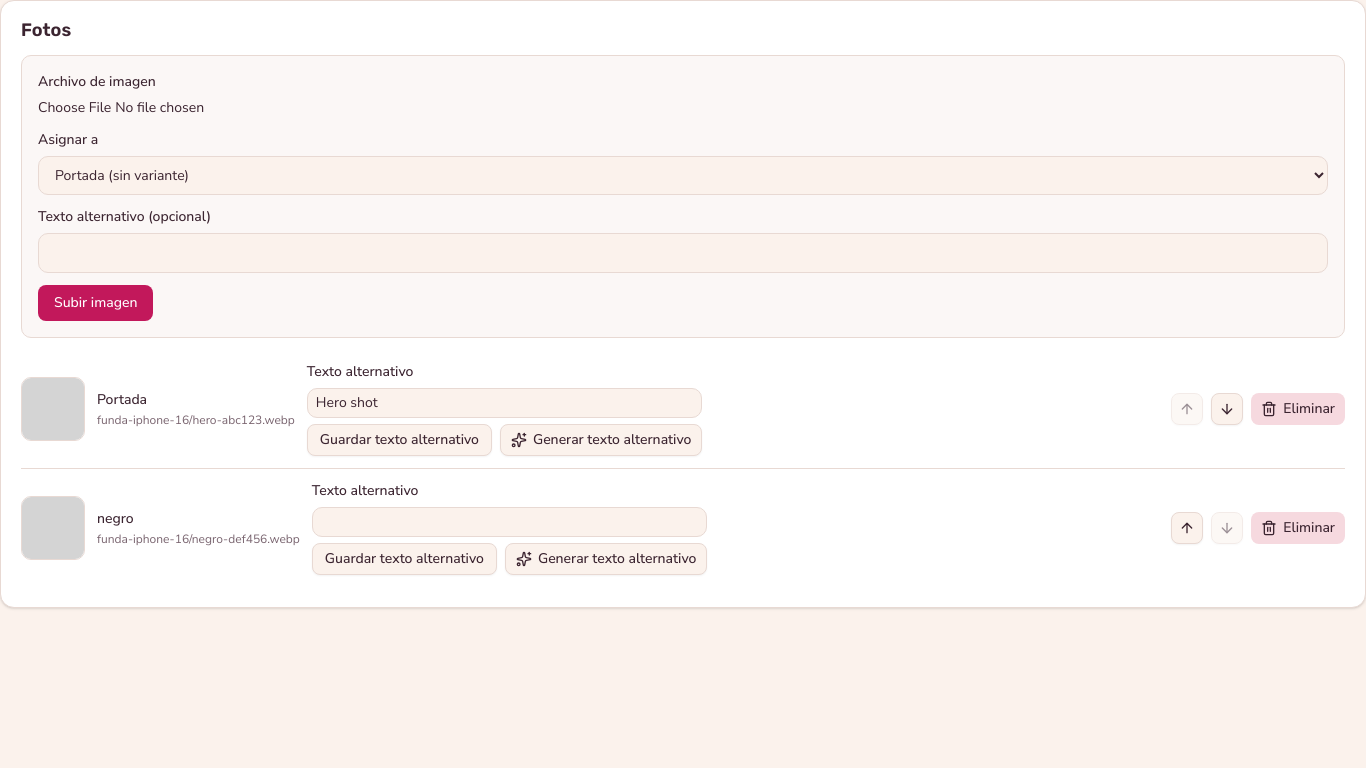
Test: ImageManager › surfaces an alt-text save error via role=alert
Click the button "Guardar texto alternativo" next to "funda-iphone-16/hero-abc123.webp".
click(399, 440)  # box top-left (307, 424), bottom-right (492, 456)
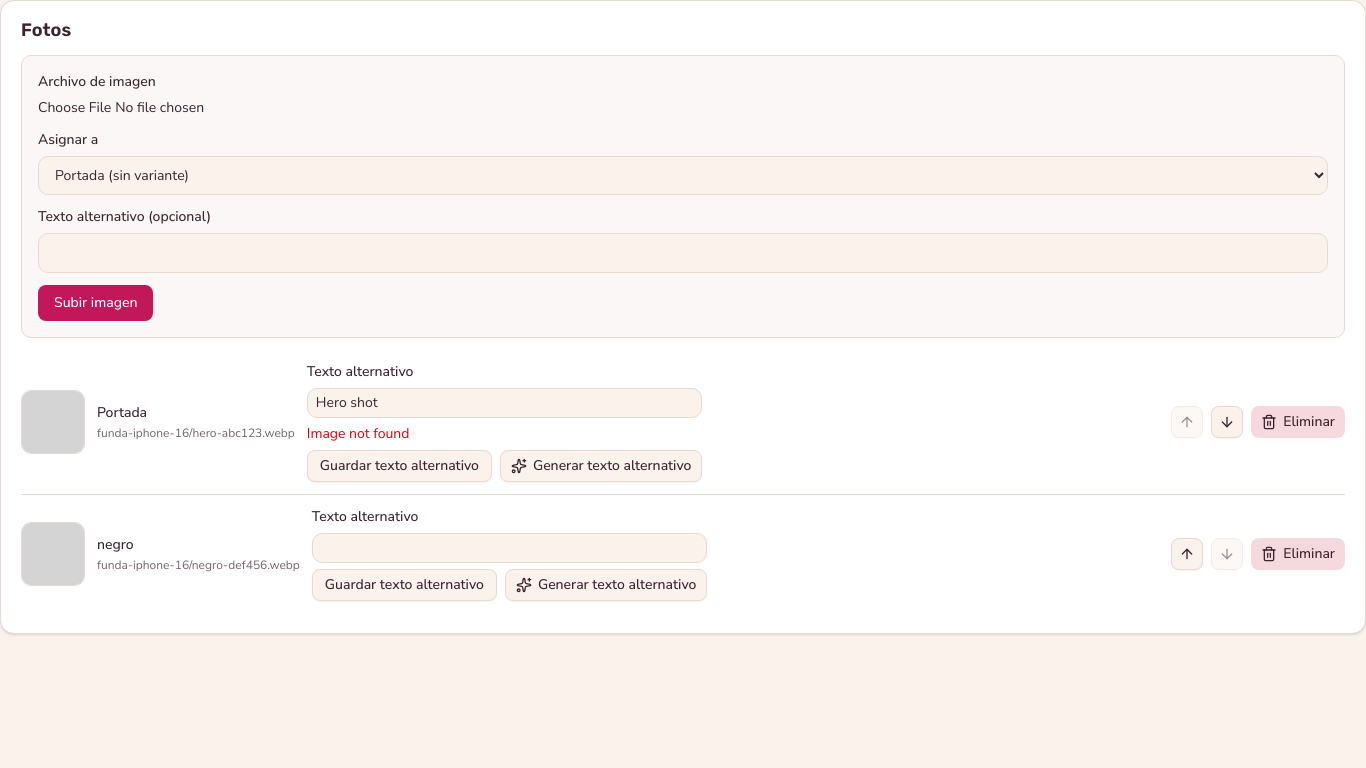
Now the message reads "Image not found", box top-left (307, 424), bottom-right (410, 443)
